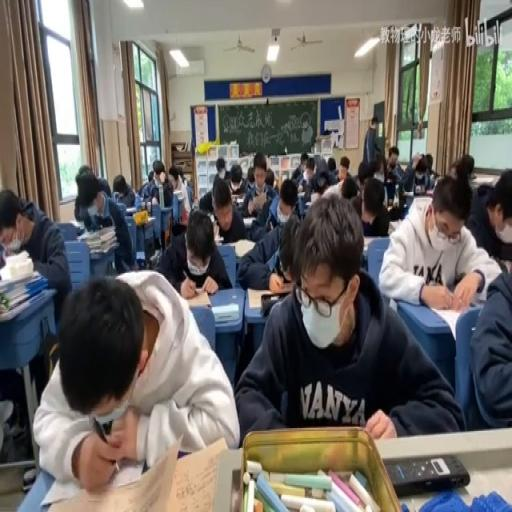calculator: (428, 303, 478, 343), (76, 223, 117, 255), (246, 284, 280, 308), (212, 300, 238, 322), (183, 289, 212, 307), (407, 192, 432, 212), (232, 238, 255, 258), (471, 174, 496, 186), (361, 234, 376, 252), (133, 215, 155, 226), (212, 219, 221, 242), (242, 215, 256, 226), (387, 219, 398, 233), (69, 218, 84, 228), (173, 188, 185, 200), (125, 205, 136, 215), (302, 199, 312, 209), (404, 190, 414, 198), (297, 184, 304, 194), (426, 189, 432, 196)
paper: (36, 268, 237, 494), (378, 168, 499, 310), (0, 183, 71, 323), (467, 253, 512, 430), (235, 192, 302, 287), (157, 206, 228, 294), (142, 158, 174, 243), (352, 175, 390, 235), (74, 168, 112, 222), (384, 146, 410, 205), (362, 115, 380, 168), (226, 162, 247, 202), (112, 174, 136, 208), (294, 155, 314, 193), (338, 174, 359, 206), (212, 156, 230, 192), (278, 185, 296, 215), (457, 154, 474, 179), (355, 161, 370, 189), (374, 154, 388, 184), (424, 151, 434, 175), (75, 162, 91, 176), (312, 152, 322, 174), (245, 165, 254, 188), (264, 166, 274, 186), (339, 156, 350, 174), (168, 170, 178, 186), (448, 164, 458, 179), (327, 155, 336, 171), (414, 175, 424, 188), (147, 169, 154, 182), (274, 176, 280, 190), (112, 189, 119, 201), (182, 175, 187, 186)
person: (384, 452, 470, 494), (228, 468, 241, 510), (146, 198, 152, 214)
